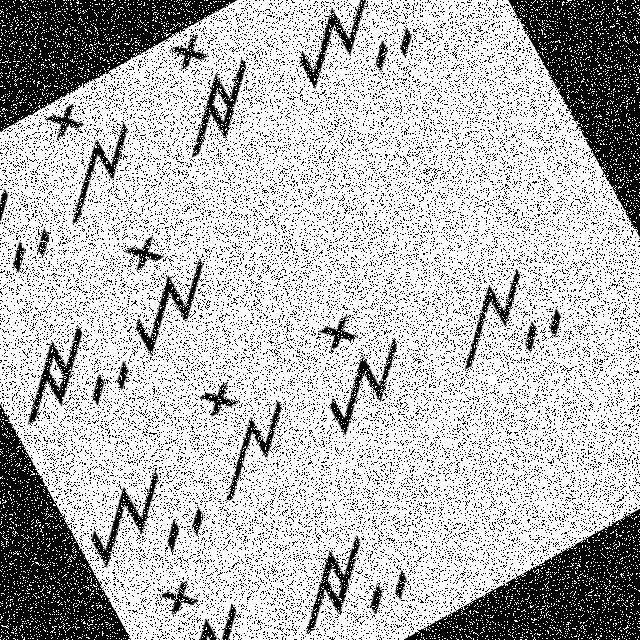lah: (419, 237, 588, 399), (0, 167, 68, 311)
lo: (16, 77, 163, 232), (170, 356, 316, 507)
rah: (264, 508, 430, 639), (0, 299, 145, 447)
ro: (136, 12, 285, 170), (117, 555, 280, 639)
yah: (60, 441, 220, 593), (251, 0, 437, 126)
yo: (89, 208, 244, 372), (280, 291, 434, 454)
